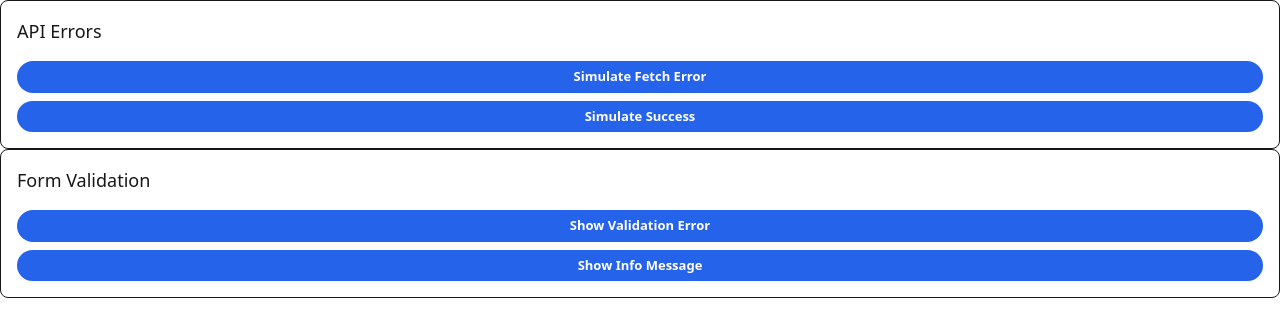
Toast Demo Component › shows error toast when clicking fetch error button
The image size is (1280, 315).
Click the button "Simulate Fetch Error": [640, 77] box x1=17 y1=61 x2=1263 y2=92
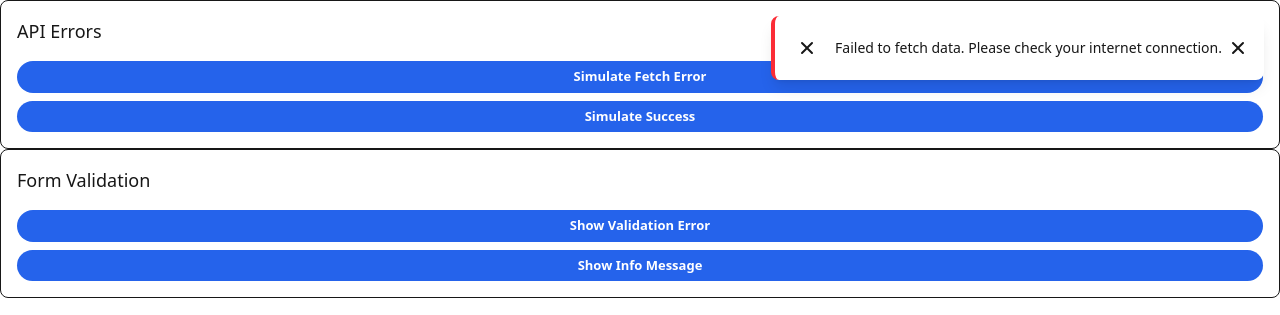
Expected: the text "Failed to fetch data. Please check your internet connection." is shown, x1=835 y1=38 x2=1222 y2=58
